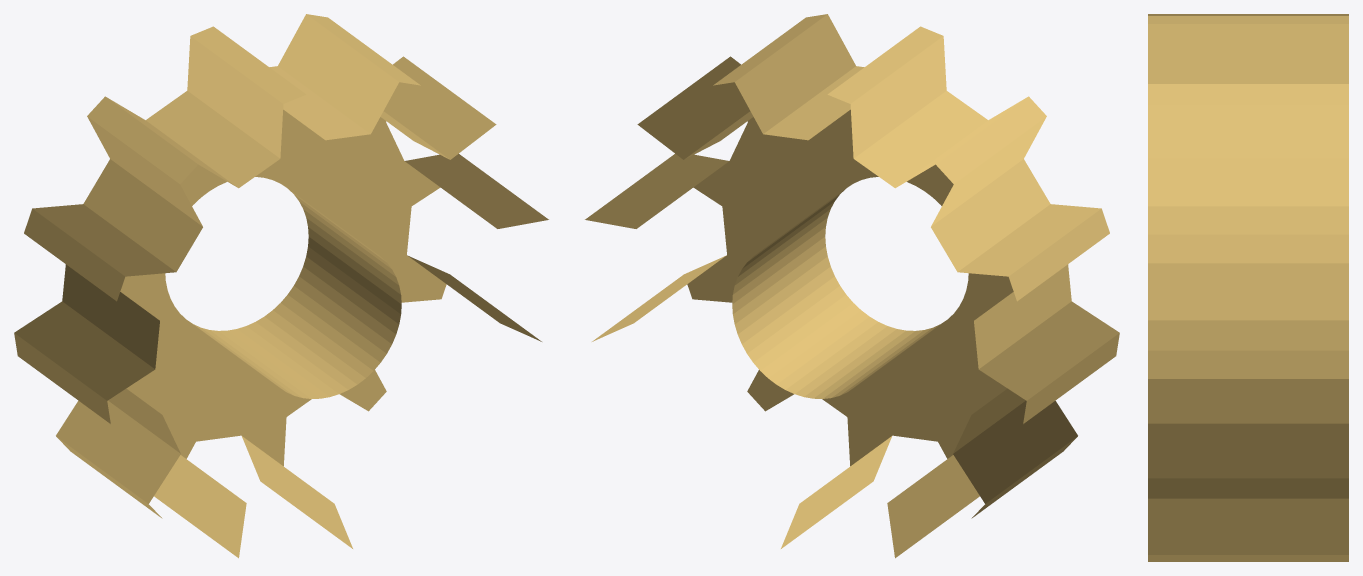
File: model-demo.glb
The picture shows the model from 3 angles, left to right: view 1: azimuth 30°, elevation 25°; view 2: azimuth 150°, elevation 25°; view 3: azimuth 270°, elevation 25°; orthographic projection. The views are drawn at different scales.
Visible parts, largest first — view 1: demo-gear; view 2: demo-gear; view 3: demo-gear.
Part boxes in pixels (<box>): demo-gear: <box>14,14,548,558</box>; demo-gear: <box>585,14,1119,558</box>; demo-gear: <box>1148,14,1348,561</box>.
Size of the model in its own units: 1.99 by 1.99 by 0.72.
